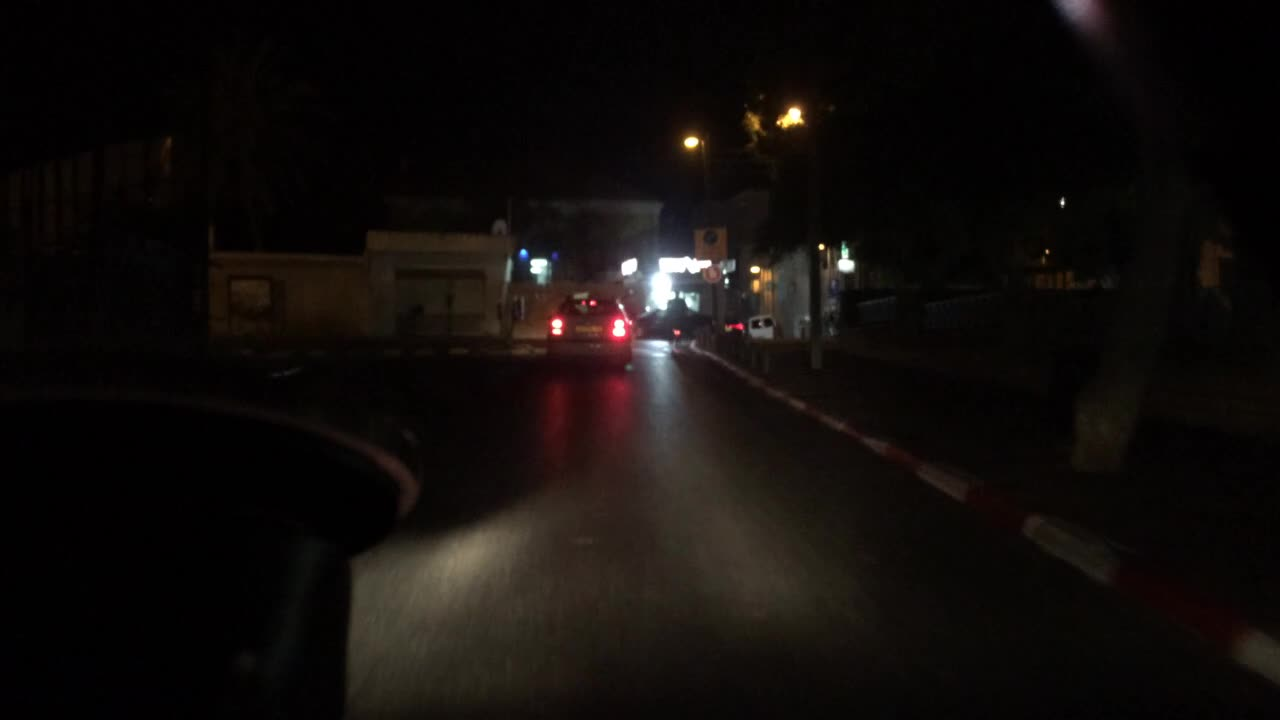car: (542, 293, 636, 365), (631, 305, 712, 338), (747, 312, 778, 341), (721, 315, 745, 341)
person: (665, 286, 691, 343)
traffic sign: (691, 223, 729, 263), (702, 262, 724, 283)
